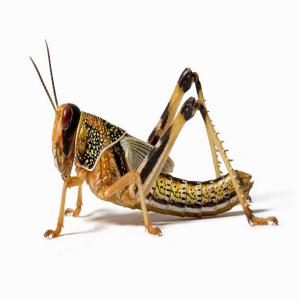locust: (39, 68, 278, 245)
